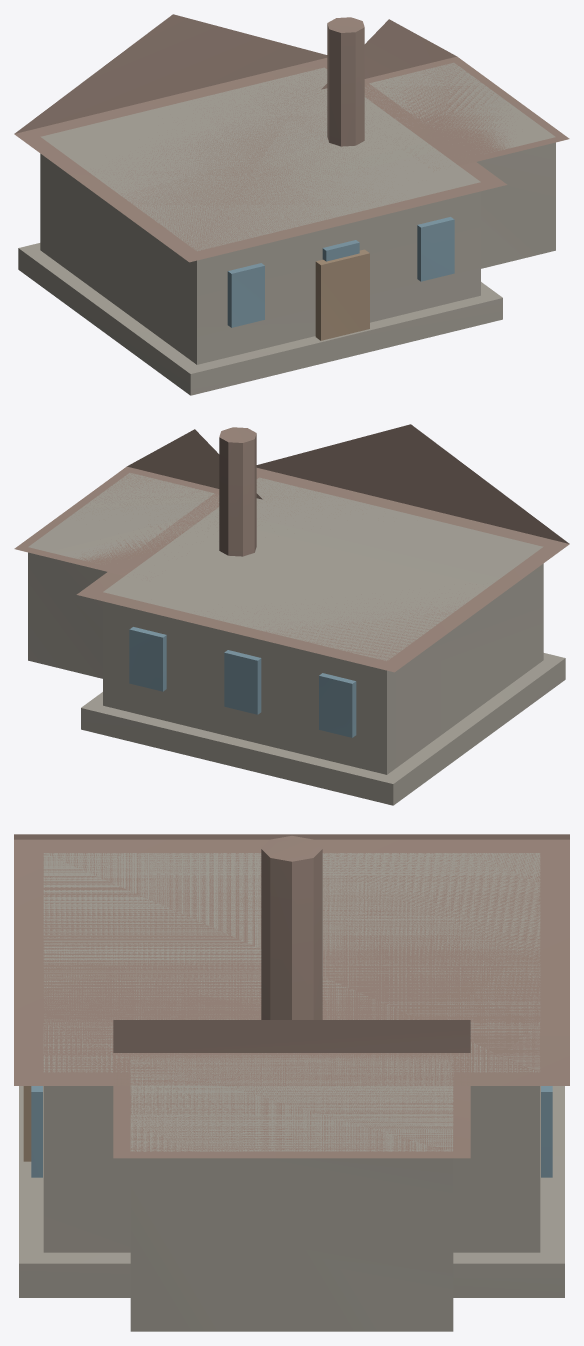
Rendered from chalet-04.glb.
3 renders of one model, top to bottom at view 1: azimuth 30°, elevation 25°; view 2: azimuth 150°, elevation 25°; view 3: azimuth 270°, elevation 25°, orthographic. The views are drawn at different scales.
Visible parts, largest first — view 1: world; view 2: world; view 3: world.
Part boxes in pixels (x1,y1,x2,y2): world: (14,14,569,395); world: (14,424,569,805); world: (14,834,569,1331).
Size of the model in its own units: 1.59 by 0.92 by 1.18.
